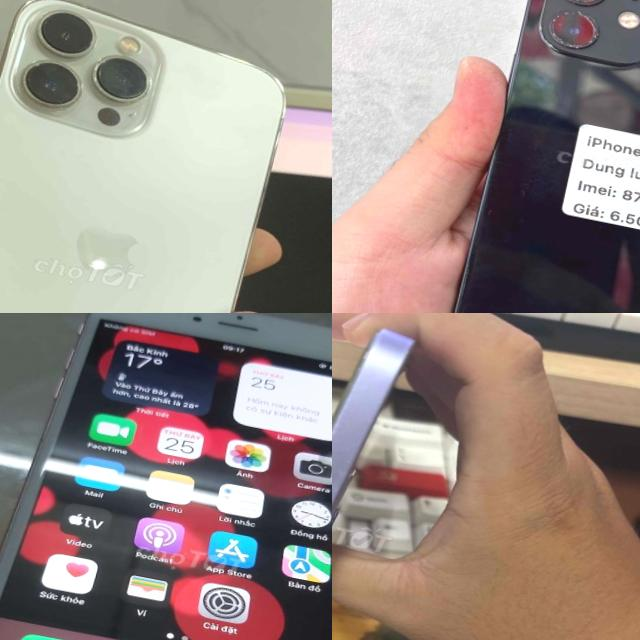gen_12_13: (0, 0, 305, 313), (439, 0, 640, 313), (332, 313, 428, 590)
gen_6: (0, 313, 332, 640)
